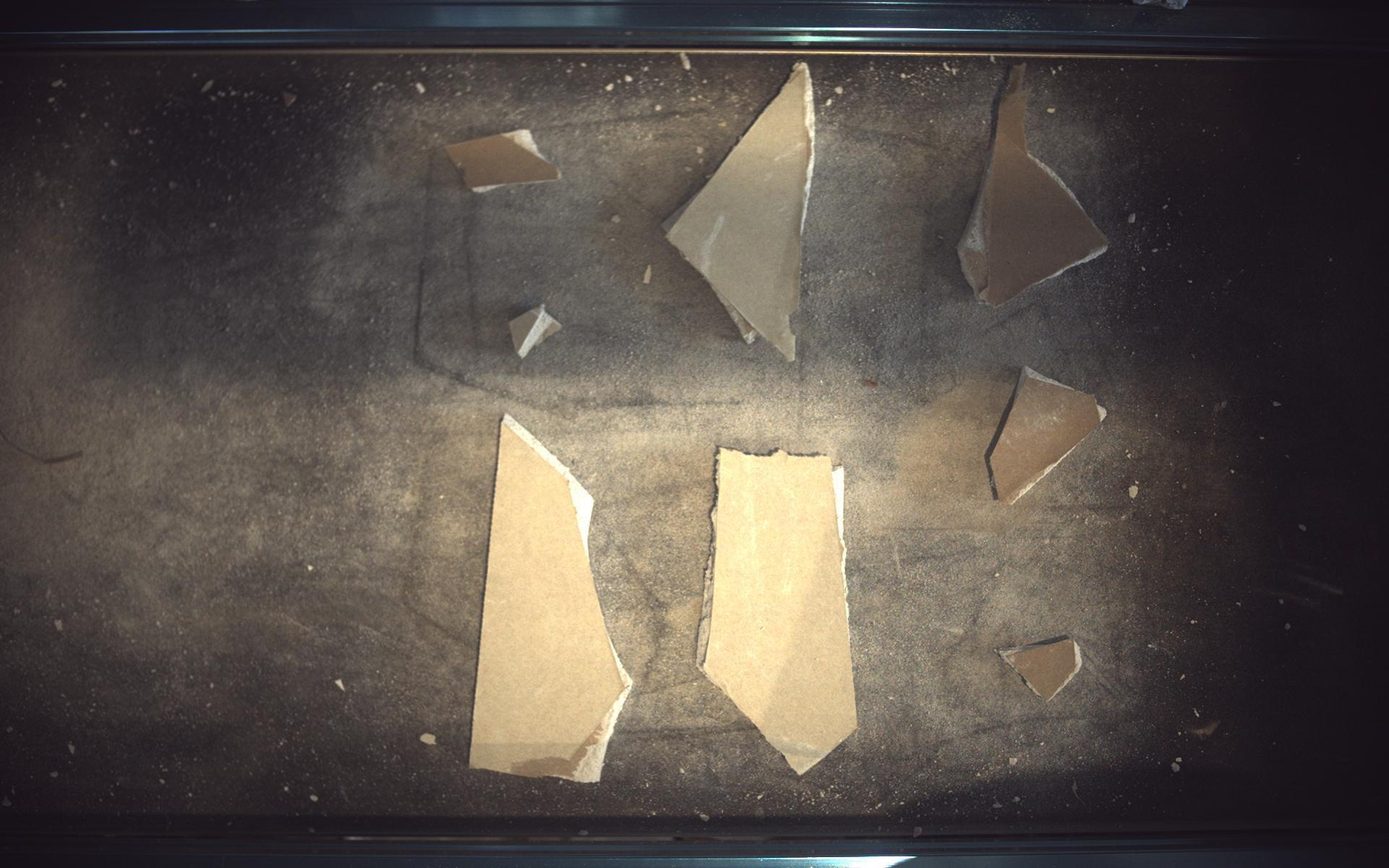gypsum_board: (470, 414, 633, 784), (698, 448, 859, 775), (664, 61, 816, 361), (960, 61, 1110, 306), (987, 367, 1109, 506), (446, 128, 561, 192), (1001, 636, 1085, 702), (509, 305, 562, 358)
